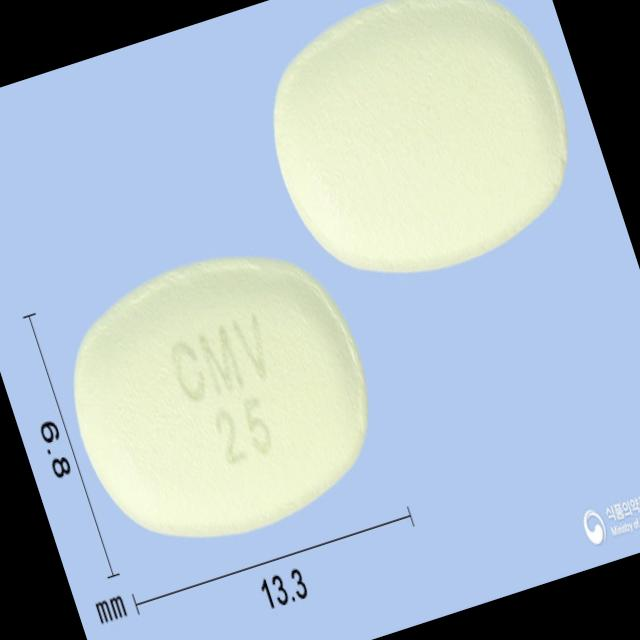Clocide: (39, 218, 402, 576)
